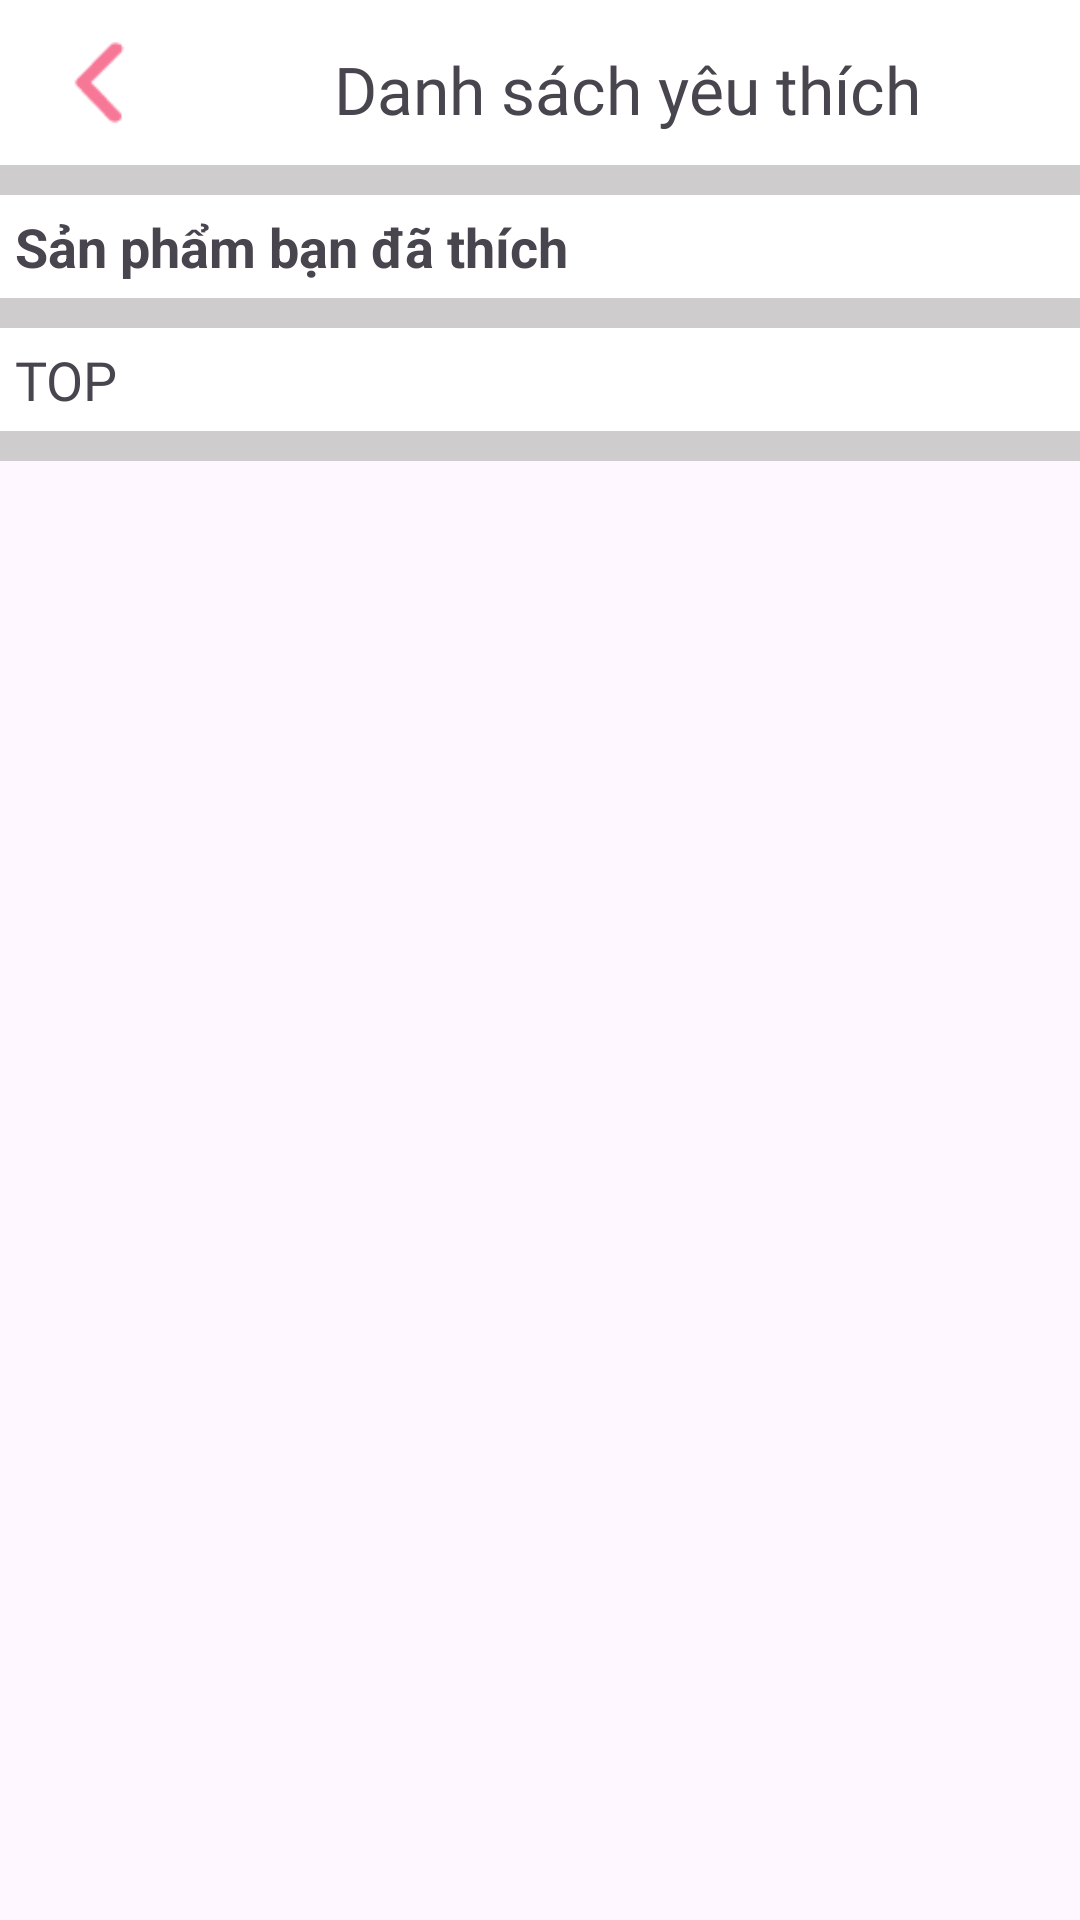

Point at icon controls on the screen. Image size 1080 x 1920, points as (x,y).
iconback: (99,82)
